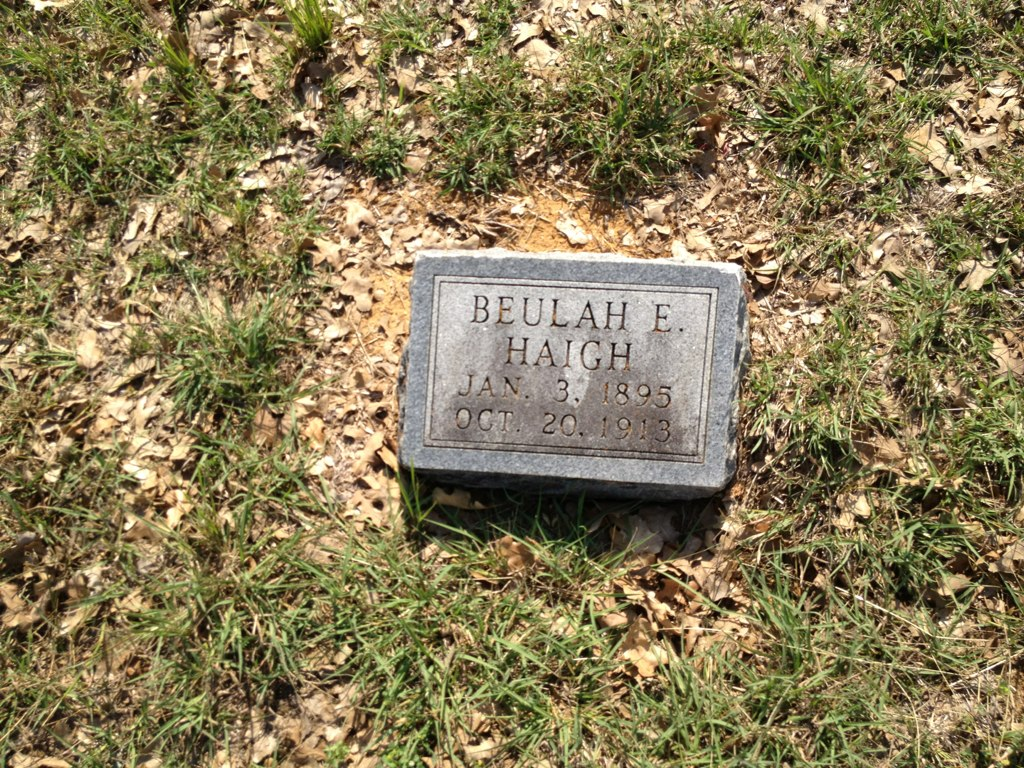flat: (387, 246, 753, 498)
